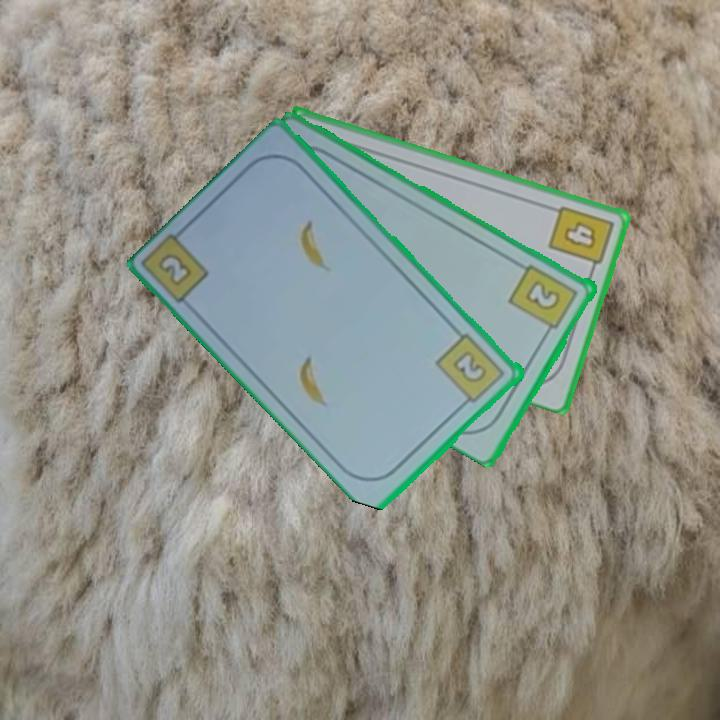2b: (432, 330, 509, 411), (506, 260, 581, 339), (155, 249, 196, 289)
4b: (545, 201, 617, 276)
